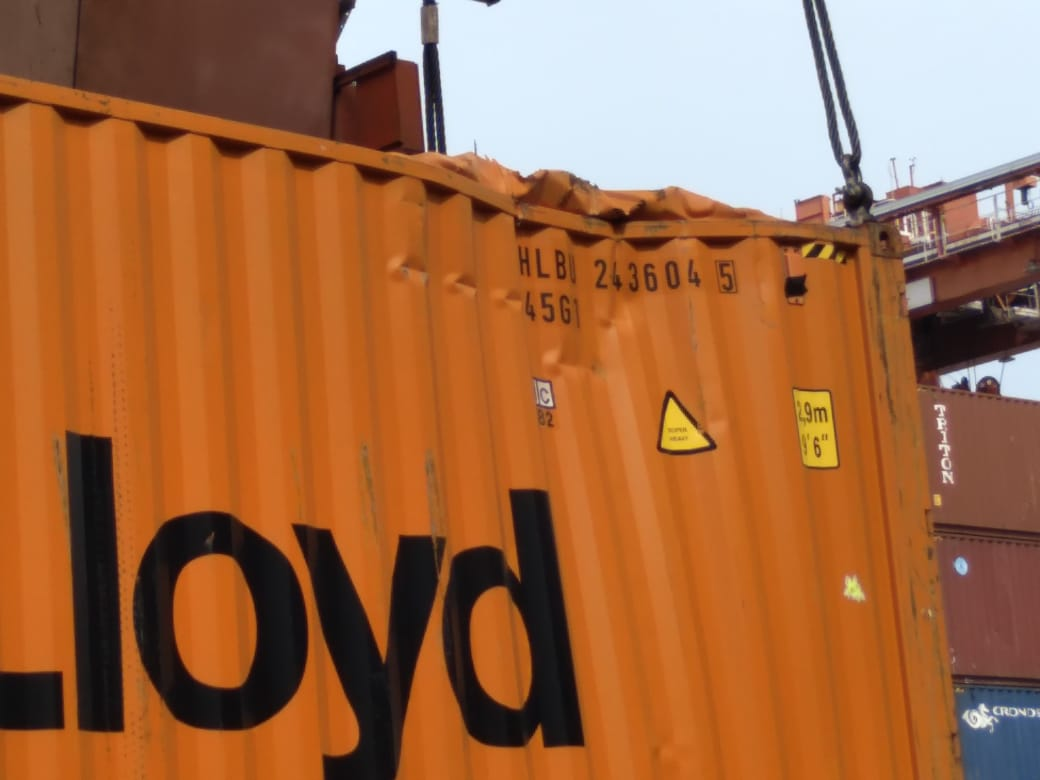moderate: (374, 147, 811, 383)
